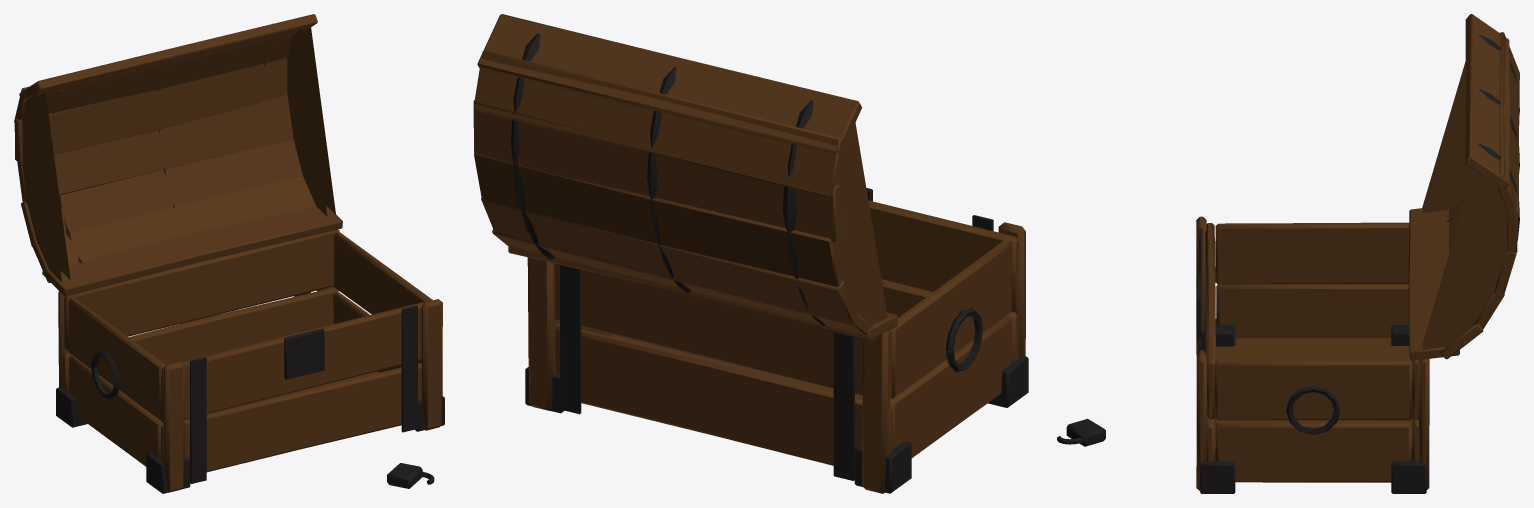
Rendered from schatzkiste_klein_kaputt.glb.
3 views of the same model, side by side, from view 1: azimuth 30°, elevation 25°; view 2: azimuth 150°, elevation 25°; view 3: azimuth 270°, elevation 25° (orthographic). The views are drawn at different scales.
Visible parts, largest first — view 1: schatzkiste_klein_kaputt; view 2: schatzkiste_klein_kaputt; view 3: schatzkiste_klein_kaputt.
Boxes of the visible parts, <box> form: schatzkiste_klein_kaputt: <box>14,14,444,493</box>; schatzkiste_klein_kaputt: <box>473,14,1028,493</box>; schatzkiste_klein_kaputt: <box>1057,14,1519,493</box>.
Bounding box in the file's own units: 0.7533 × 0.7803 × 0.9683.
